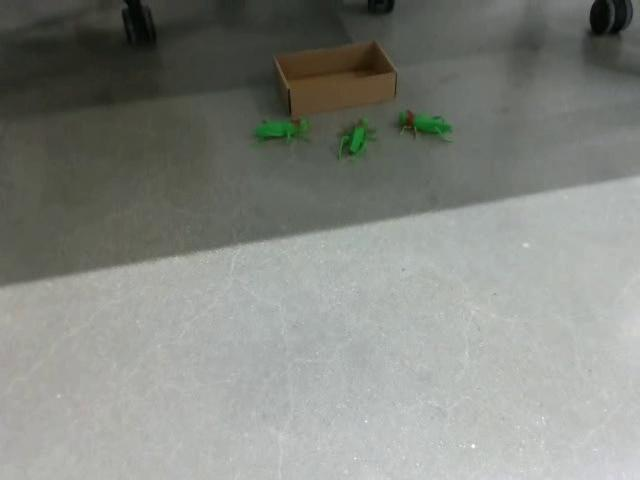box: (271, 38, 398, 119)
grasshopper: (397, 108, 453, 142), (335, 116, 376, 160), (254, 115, 310, 143)
